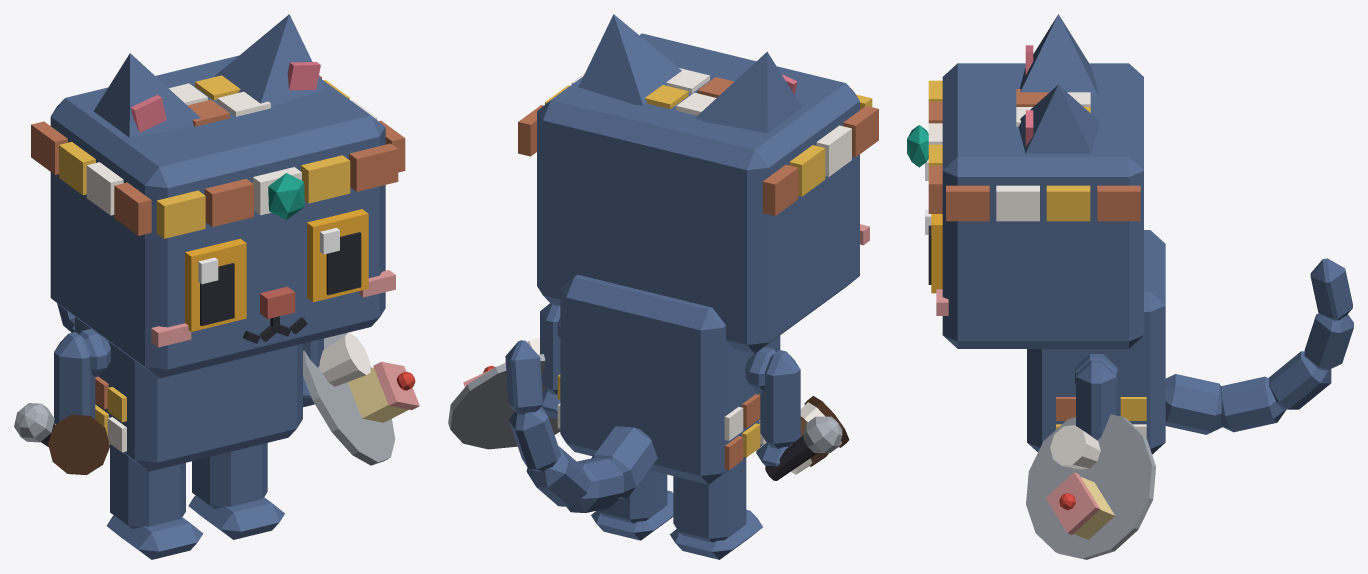
Rendered from CatCafe_Cat_Mosaic_Work.glb.
3 views of the same model, side by side, from view 1: azimuth 30°, elevation 25°; view 2: azimuth 150°, elevation 25°; view 3: azimuth 270°, elevation 25° (orthographic). The views are drawn at different scales.
Visible parts, largest first — view 1: CatCafe_Cat_Mosaic_Work_Head, CatCafe_Cat_Mosaic_Work_Body, CatCafe_Cat_Mosaic_Work_Prop, CatCafe_Cat_Mosaic_Work_Held_Waiter, CatCafe_Cat_Mosaic_Work_LegB2, CatCafe_Cat_Mosaic_Work_LegB1, CatCafe_Cat_Mosaic_Work_EarL, CatCafe_Cat_Mosaic_Work_Eye1, CatCafe_Cat_Mosaic_Work_Eye2, CatCafe_Cat_Mosaic_Work_EarR, CatCafe_Cat_Mosaic_Work_LegF2, CatCafe_Cat_Mosaic_Work_Held_Barista (+3 smaller); view 2: CatCafe_Cat_Mosaic_Work_Head, CatCafe_Cat_Mosaic_Work_Body, CatCafe_Cat_Mosaic_Work_Tail, CatCafe_Cat_Mosaic_Work_Prop, CatCafe_Cat_Mosaic_Work_LegB2, CatCafe_Cat_Mosaic_Work_EarL, CatCafe_Cat_Mosaic_Work_EarR, CatCafe_Cat_Mosaic_Work_Held_Waiter, CatCafe_Cat_Mosaic_Work_LegF2, CatCafe_Cat_Mosaic_Work_LegB1, CatCafe_Cat_Mosaic_Work_Held_Entertainer, CatCafe_Cat_Mosaic_Work_LegF1 (+1 smaller); view 3: CatCafe_Cat_Mosaic_Work_Head, CatCafe_Cat_Mosaic_Work_Held_Waiter, CatCafe_Cat_Mosaic_Work_Tail, CatCafe_Cat_Mosaic_Work_Body, CatCafe_Cat_Mosaic_Work_Prop, CatCafe_Cat_Mosaic_Work_EarL, CatCafe_Cat_Mosaic_Work_EarR, CatCafe_Cat_Mosaic_Work_LegF1, CatCafe_Cat_Mosaic_Work_Eye1, CatCafe_Cat_Mosaic_Work_Glow.
Part boxes in pixels (x1,y1,x2,y2): CatCafe_Cat_Mosaic_Work_Head: [50, 55, 395, 378]; CatCafe_Cat_Mosaic_Work_Body: [75, 317, 302, 471]; CatCafe_Cat_Mosaic_Work_Prop: [31, 75, 405, 238]; CatCafe_Cat_Mosaic_Work_Held_Waiter: [303, 332, 419, 465]; CatCafe_Cat_Mosaic_Work_LegB2: [107, 444, 203, 559]; CatCafe_Cat_Mosaic_Work_LegB1: [188, 443, 284, 539]; CatCafe_Cat_Mosaic_Work_EarL: [215, 14, 325, 106]; CatCafe_Cat_Mosaic_Work_Eye1: [307, 209, 368, 302]; CatCafe_Cat_Mosaic_Work_Eye2: [185, 238, 246, 331]; CatCafe_Cat_Mosaic_Work_EarR: [93, 53, 200, 137]; CatCafe_Cat_Mosaic_Work_LegF2: [54, 332, 95, 423]; CatCafe_Cat_Mosaic_Work_Held_Barista: [48, 414, 109, 475]; CatCafe_Cat_Mosaic_Work_Head: [537, 33, 869, 353]; CatCafe_Cat_Mosaic_Work_Body: [557, 274, 780, 484]; CatCafe_Cat_Mosaic_Work_Tail: [505, 340, 657, 512]; CatCafe_Cat_Mosaic_Work_Prop: [518, 73, 878, 216]; CatCafe_Cat_Mosaic_Work_LegB2: [670, 457, 762, 559]; CatCafe_Cat_Mosaic_Work_EarL: [578, 14, 681, 105]; CatCafe_Cat_Mosaic_Work_EarR: [695, 51, 802, 133]; CatCafe_Cat_Mosaic_Work_Held_Waiter: [448, 337, 560, 449]; CatCafe_Cat_Mosaic_Work_LegF2: [756, 350, 800, 466]; CatCafe_Cat_Mosaic_Work_LegB1: [591, 470, 673, 540]; CatCafe_Cat_Mosaic_Work_Held_Entertainer: [765, 416, 842, 480]; CatCafe_Cat_Mosaic_Work_LegF1: [540, 303, 560, 419]; CatCafe_Cat_Mosaic_Work_Head: [936, 63, 1143, 348]; CatCafe_Cat_Mosaic_Work_Held_Waiter: [1026, 414, 1155, 559]; CatCafe_Cat_Mosaic_Work_Tail: [1165, 258, 1353, 434]; CatCafe_Cat_Mosaic_Work_Body: [1027, 230, 1165, 454]; CatCafe_Cat_Mosaic_Work_Prop: [928, 80, 1140, 221]; CatCafe_Cat_Mosaic_Work_EarL: [1018, 84, 1098, 153]; CatCafe_Cat_Mosaic_Work_EarR: [1019, 14, 1098, 96]; CatCafe_Cat_Mosaic_Work_LegF1: [1076, 360, 1116, 440]; CatCafe_Cat_Mosaic_Work_Eye1: [925, 209, 942, 293]; CatCafe_Cat_Mosaic_Work_Glow: [907, 125, 928, 167].
Bounding box in the file's own units: 1.53 × 1.93 × 1.68.
Materials: 1 (1 with a texture image).
